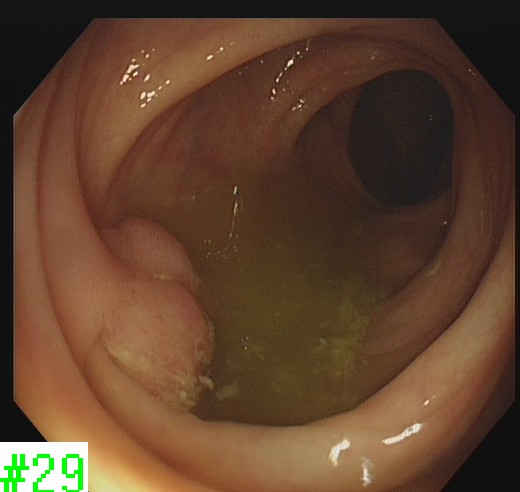adenoma: (98, 212, 219, 408)
